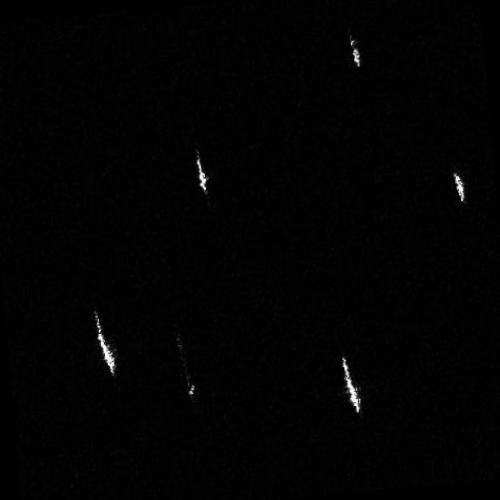ship: (175, 332, 196, 406), (91, 311, 115, 375), (339, 354, 363, 415), (194, 155, 207, 192), (451, 170, 465, 201), (349, 37, 360, 67)
